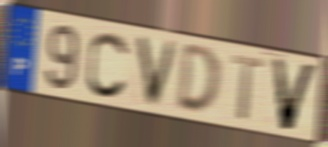9: (42, 22, 82, 94)
C: (84, 29, 131, 101)
D: (174, 44, 223, 119)
T: (230, 54, 266, 124)
V: (269, 55, 321, 134), (134, 32, 181, 111)
